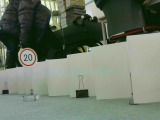speed_20: (16, 47, 38, 67)
